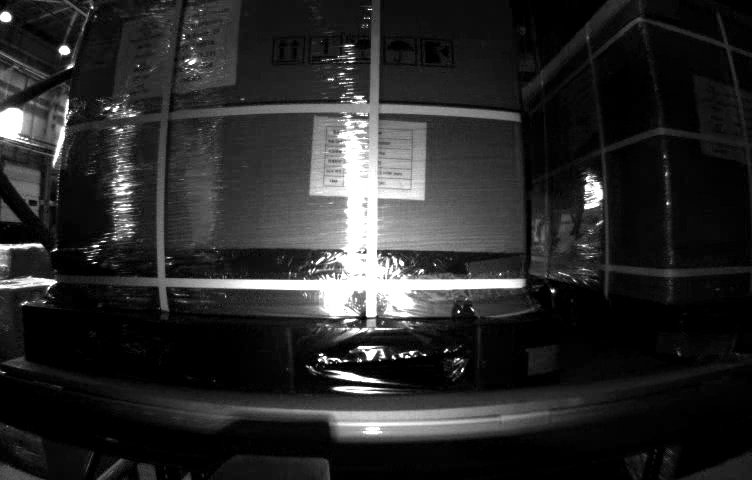True Barcode: (83, 42, 112, 69)
